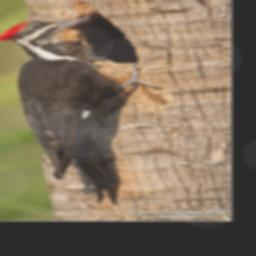Woodpecker: (0, 16, 164, 206)
